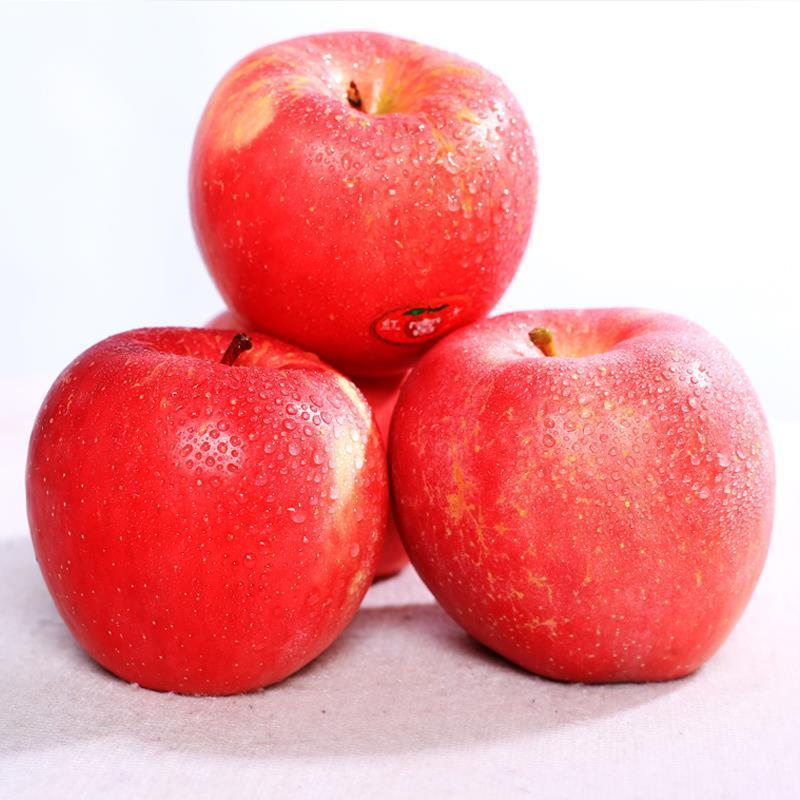apple: (396, 313, 778, 690), (23, 335, 388, 704), (182, 27, 541, 373)
